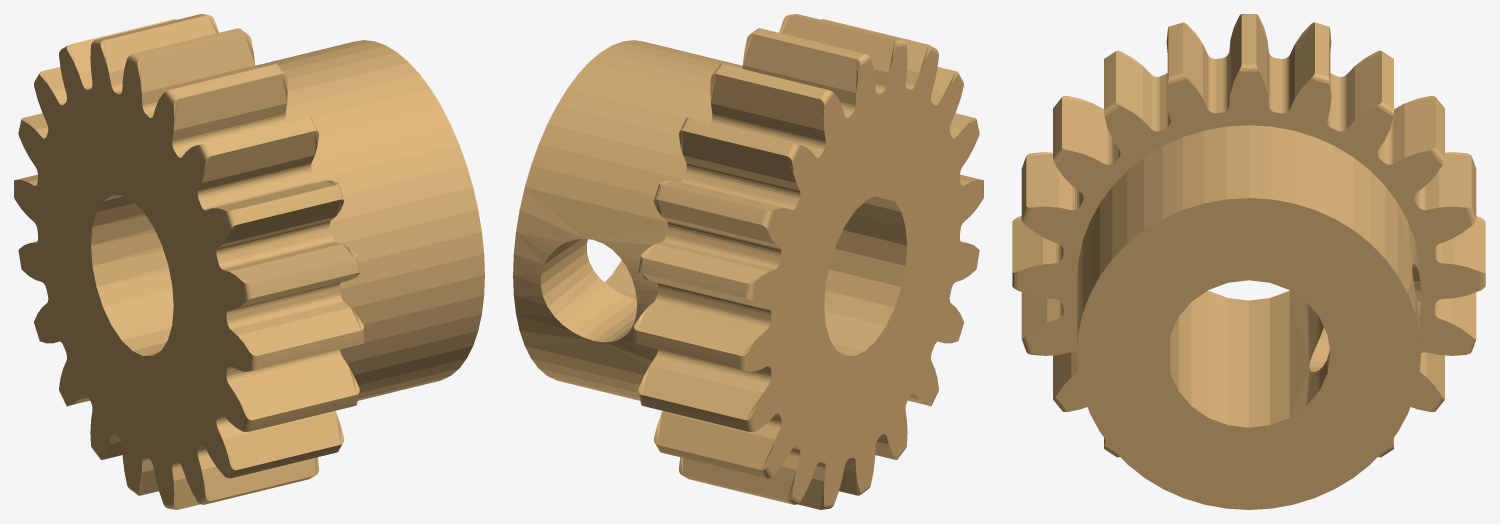
The picture shows the model from 3 angles, left to right: view 1: azimuth 30°, elevation 25°; view 2: azimuth 150°, elevation 25°; view 3: azimuth 270°, elevation 25°; orthographic projection.
Parts seen in each view (by area): view 1: Model; view 2: Model; view 3: Model.
Boxes of the visible parts, <box> form: Model: <box>14,14,484,509</box>; Model: <box>513,14,983,509</box>; Model: <box>1012,14,1485,509</box>.
Bounding box in the file's own units: 11.1 × 17.46 × 17.46.
